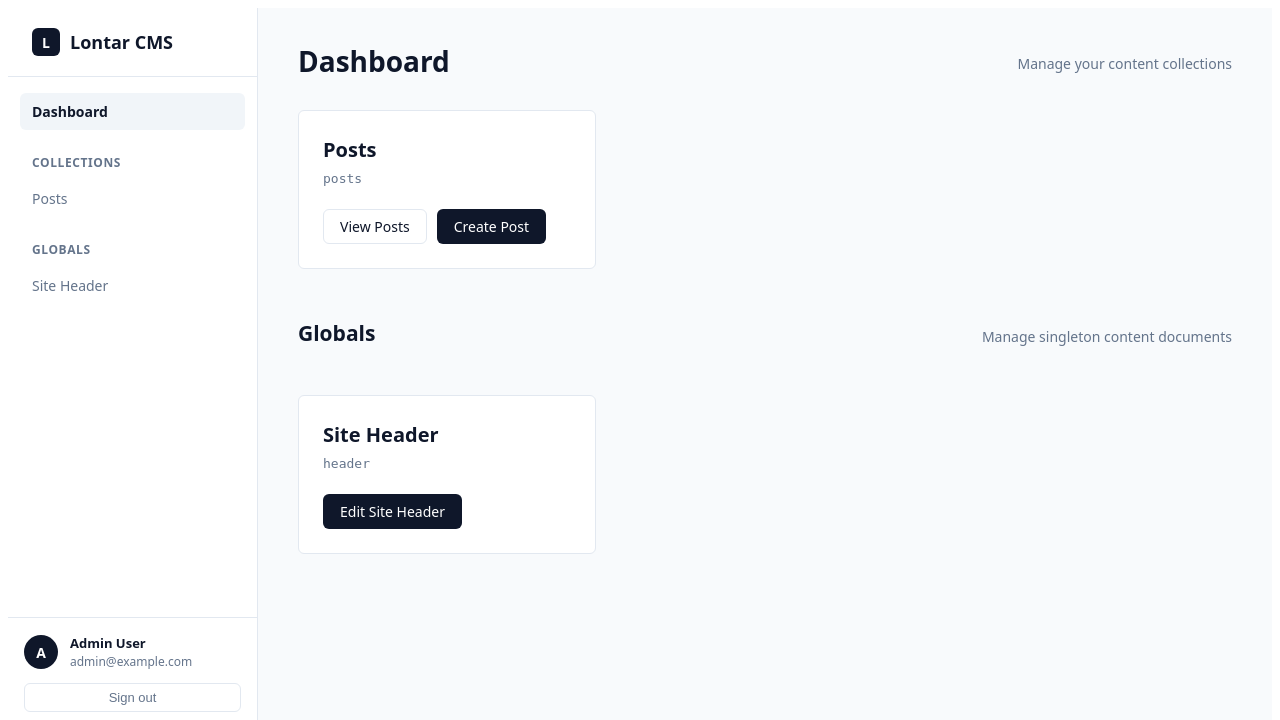
Test case: Admin SPA › Authentication and Route Protection › signs out and redirects to /admin/login when clicking logout button
Check: the text "Admin User" is shown, box [70,634,146,652]
Click the button "Sign out" at (132, 698), box [24,683,241,712]
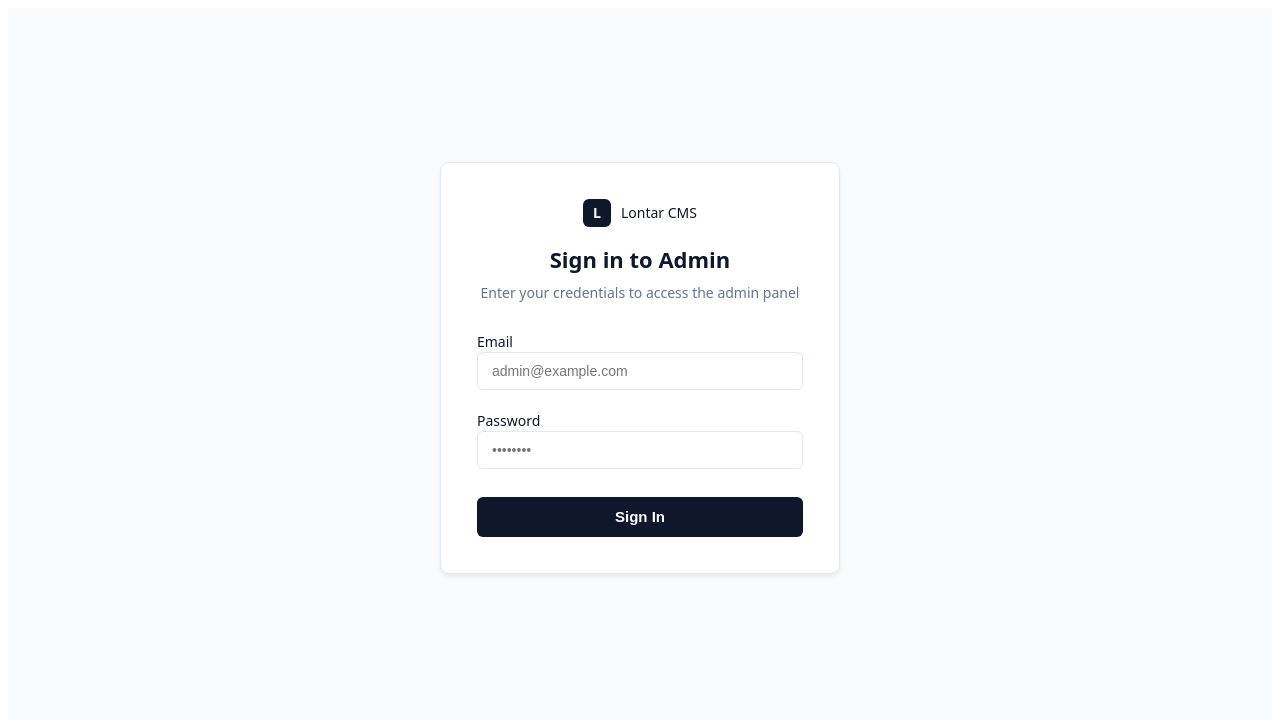
Check: the heading "Sign in to Admin" is shown, box [550,244,730,274]
